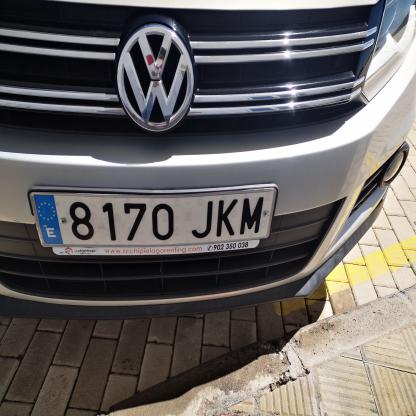patente: (32, 191, 276, 245)
